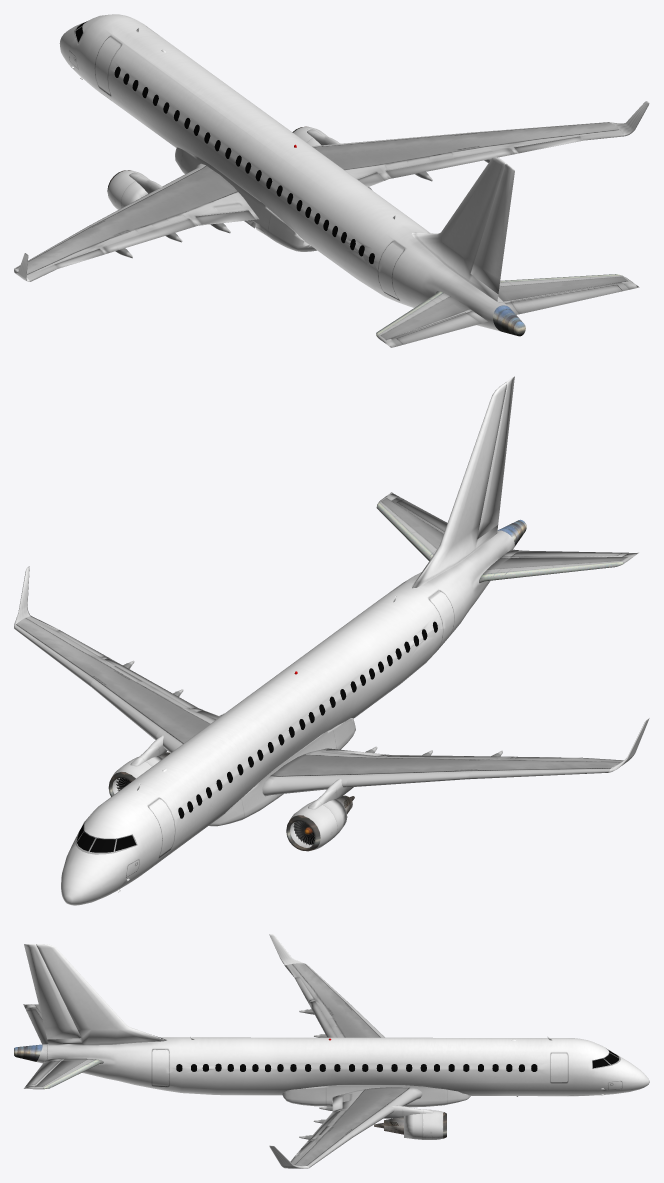
The picture shows the model from 3 angles, top to bottom: view 1: azimuth 30°, elevation 25°; view 2: azimuth 150°, elevation 25°; view 3: azimuth 270°, elevation 25°; orthographic projection. The views are drawn at different scales.
Visible parts, largest first — view 1: fuselage_001, vstab, hstab, wing_004, wing_007, rudder, wing_002, wing_009, fuselage, wing_003, elevator_r, wing_006 (+10 smaller); view 2: fuselage_001, vstab, hstab, wing_004, wing_007, wing_002, wing_009, wing_003, fuselage, rudder, nacelle_001, wing_006 (+3 smaller); view 3: fuselage_001, vstab, rudder, fuselage, wing_006, wing_002, wing_004, wing_003, hstab, wing_009, cylinder_003, nacelle (+8 smaller).
Boxes of the visible parts, <box> form: fuselage_001: <box>59,14,508,331</box>; vstab: <box>411,157,506,301</box>; hstab: <box>376,274,639,347</box>; wing_004: <box>349,132,492,178</box>; wing_007: <box>156,163,259,225</box>; rudder: <box>470,163,514,293</box>; wing_002: <box>91,189,197,243</box>; wing_009: <box>471,122,624,154</box>; fuselage: <box>175,147,316,251</box>; wing_003: <box>15,225,113,281</box>; elevator_r: <box>510,282,629,314</box>; wing_006: <box>312,143,388,180</box>; fuselage_001: <box>61,530,514,905</box>; vstab: <box>411,382,506,588</box>; hstab: <box>376,492,638,583</box>; wing_004: <box>90,666,198,740</box>; wing_007: <box>262,748,388,796</box>; wing_002: <box>346,755,492,787</box>; wing_009: <box>14,616,114,686</box>; wing_003: <box>468,756,623,779</box>; fuselage: <box>209,718,355,826</box>; rudder: <box>477,376,514,539</box>; nacelle_001: <box>286,803,337,851</box>; wing_006: <box>156,708,215,753</box>; fuselage_001: <box>36,1036,649,1096</box>; vstab: <box>36,944,166,1045</box>; rudder: <box>24,944,81,1039</box>; fuselage: <box>282,1085,470,1107</box>; wing_006: <box>332,1087,422,1112</box>; wing_002: <box>319,1004,384,1037</box>; wing_004: <box>319,1106,392,1137</box>; wing_003: <box>284,963,351,1006</box>; hstab: <box>23,1004,103,1089</box>; wing_009: <box>290,1133,353,1167</box>; cylinder_003: <box>176,1063,498,1071</box>; nacelle: <box>422,1110,446,1139</box>.
Size of the model in its own units: 28.2 by 10.22 by 35.83.
Materials: 8 (5 with a texture image).
